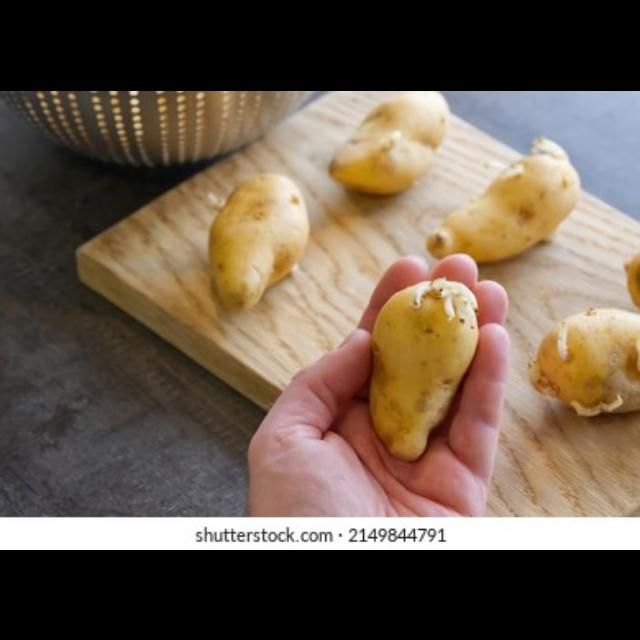Sprouted potato: (355, 270, 481, 472), (430, 139, 584, 267), (196, 159, 314, 311), (518, 298, 640, 427), (327, 90, 455, 196)
